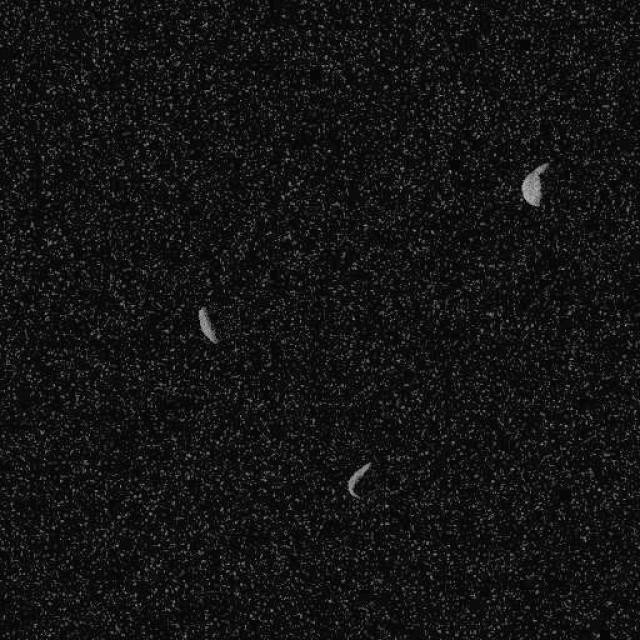D2: (520, 160, 550, 208), (345, 460, 373, 499), (196, 305, 219, 344)
